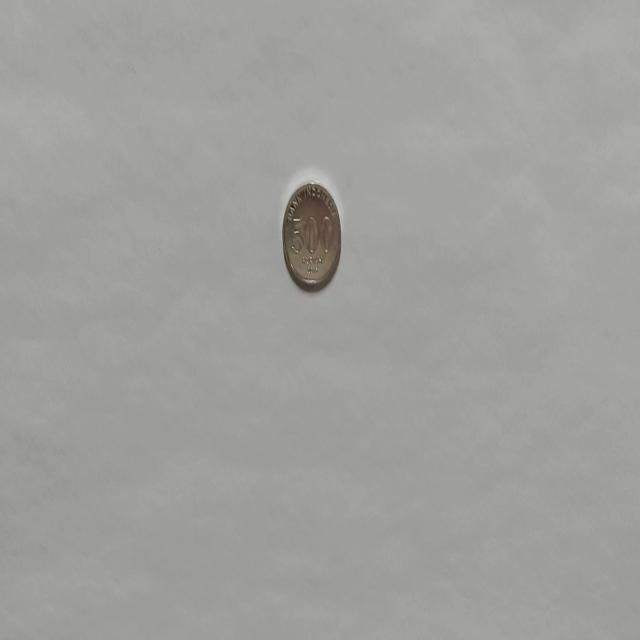lima ratus rupiah: (280, 178, 342, 292)
